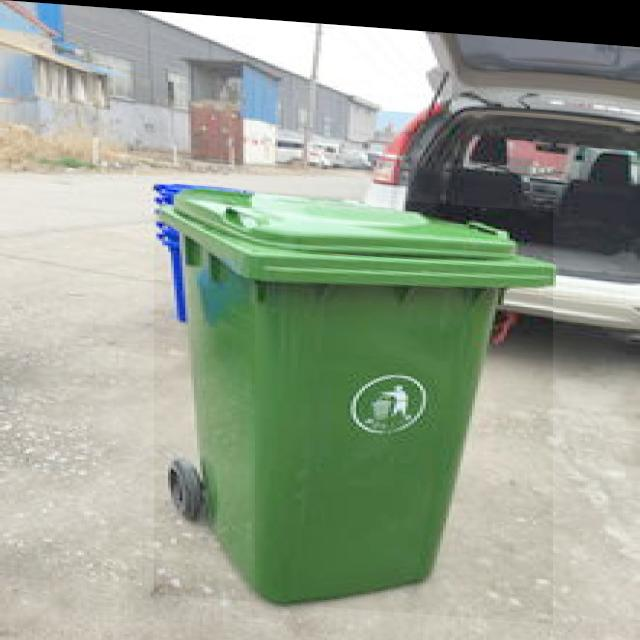garbage_bin: (154, 180, 553, 616)
